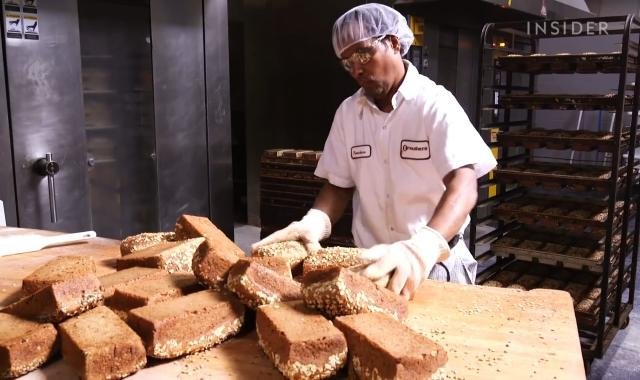hairnet: (332, 3, 414, 59)
